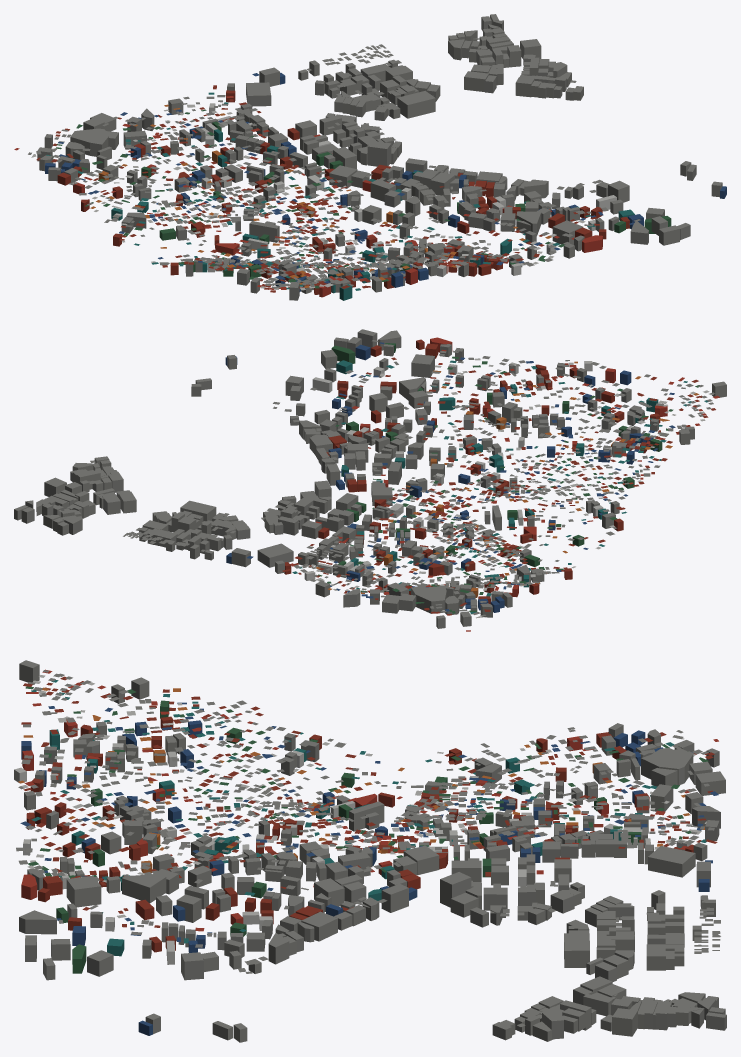
Rendered from far-15-27360-14869.61db6824.glb.
The picture shows the model from 3 angles, top to bottom: view 1: azimuth 30°, elevation 25°; view 2: azimuth 150°, elevation 25°; view 3: azimuth 270°, elevation 25°; orthographic projection. The views are drawn at different scales.
Size of the model in its own units: 1206 by 196 by 1192.
